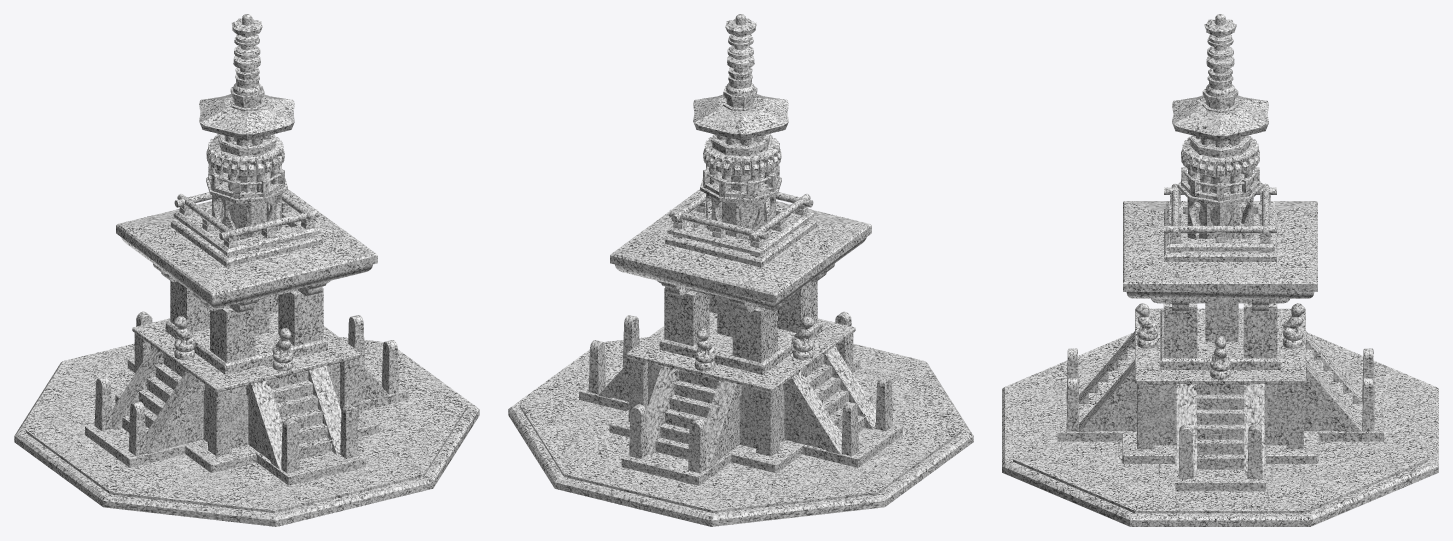
Rendered from Dabotop_Small.FBX.
3 views of the same model, side by side, from view 1: azimuth 30°, elevation 25°; view 2: azimuth 150°, elevation 25°; view 3: azimuth 270°, elevation 25° (orthographic).
Parts seen in each view (by area): view 1: Dabotop_small; view 2: Dabotop_small; view 3: Dabotop_small.
Part boxes in pixels (x1=…): Dabotop_small: x1=14, y1=14, x2=479, y2=526; Dabotop_small: x1=508, y1=14, x2=973, y2=526; Dabotop_small: x1=1002, y1=14, x2=1438, y2=526.
Size of the model in its own units: 1.48 by 1.56 by 1.47.
Materials: 1 (1 with a texture image).
